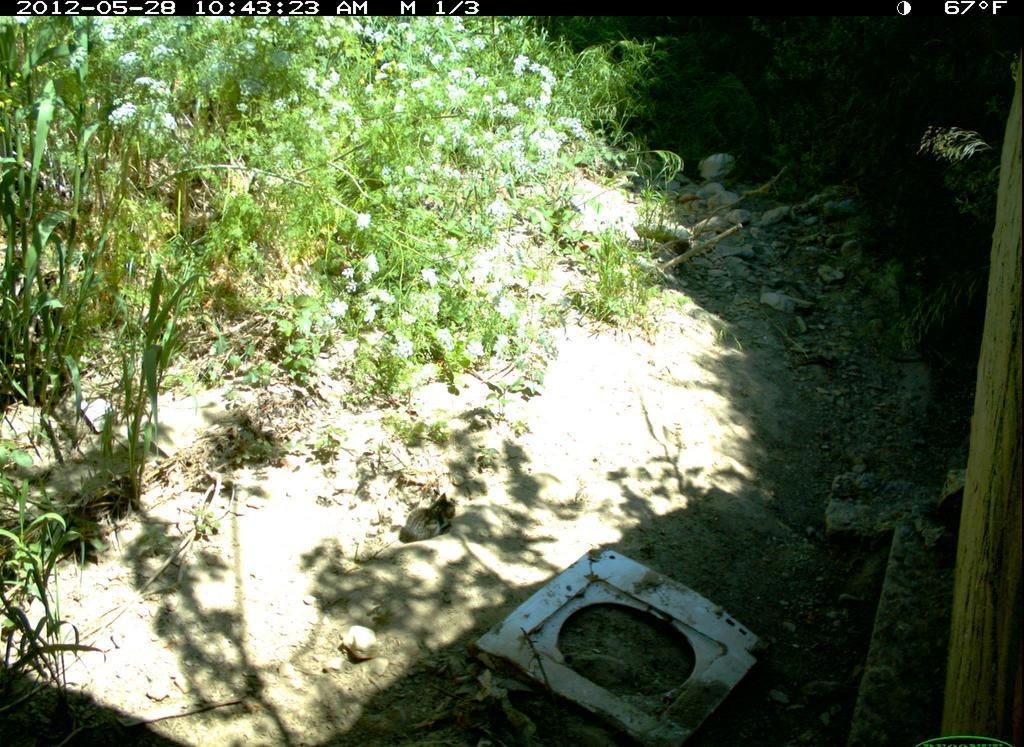cat: (391, 482, 469, 565)
